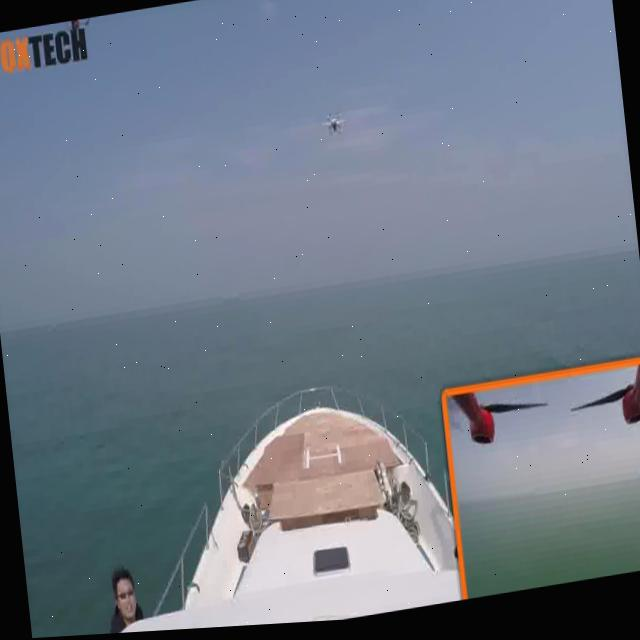drone: (31, 537, 640, 639)
